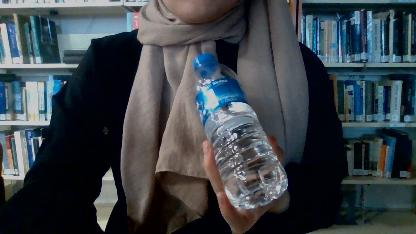Plastic Bottle: (187, 54, 295, 210)
